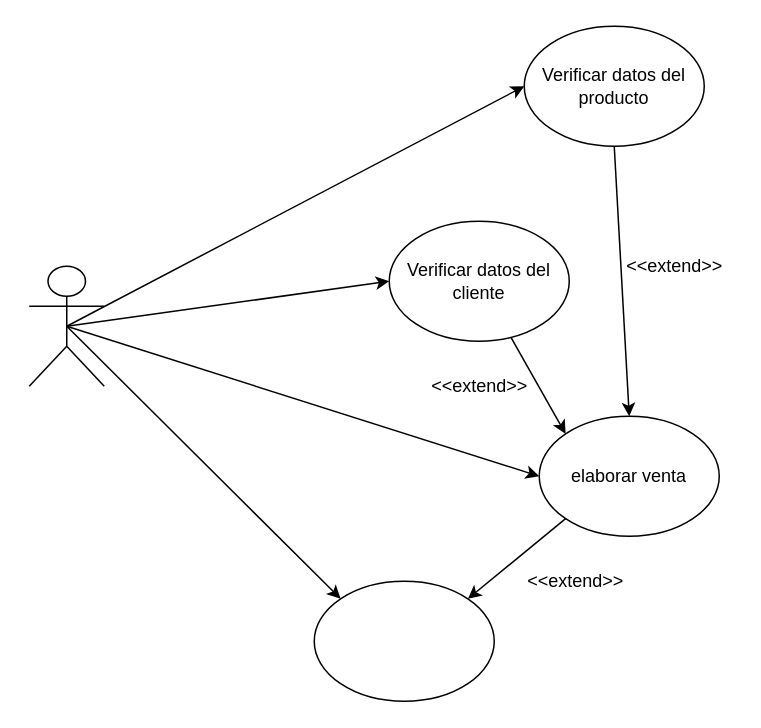
Image size: 761x728. Some labels were removed from this diagram. Here are the shapes that lost their labels. From the top down, the box of each, then its label:
(28, 265, 104, 386): Empleado
(313, 580, 494, 701): impimir factura
